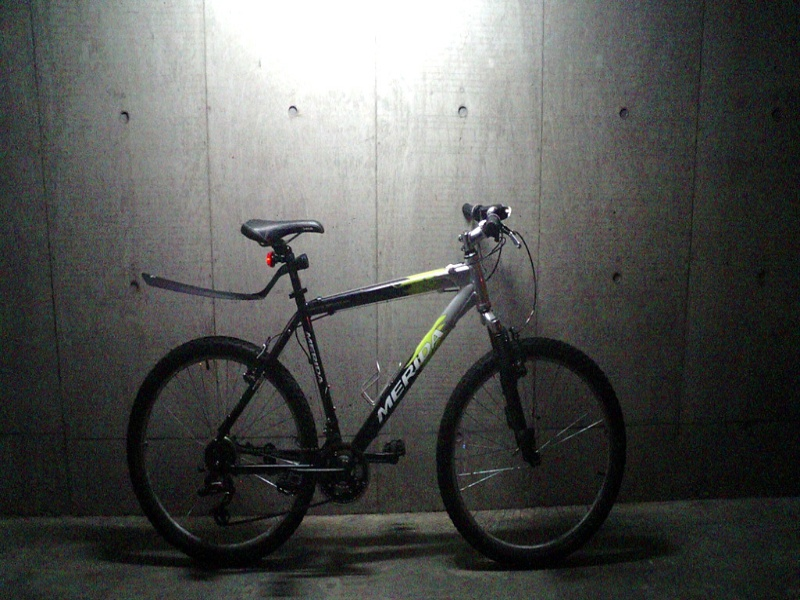bicycle: (114, 195, 631, 575)
